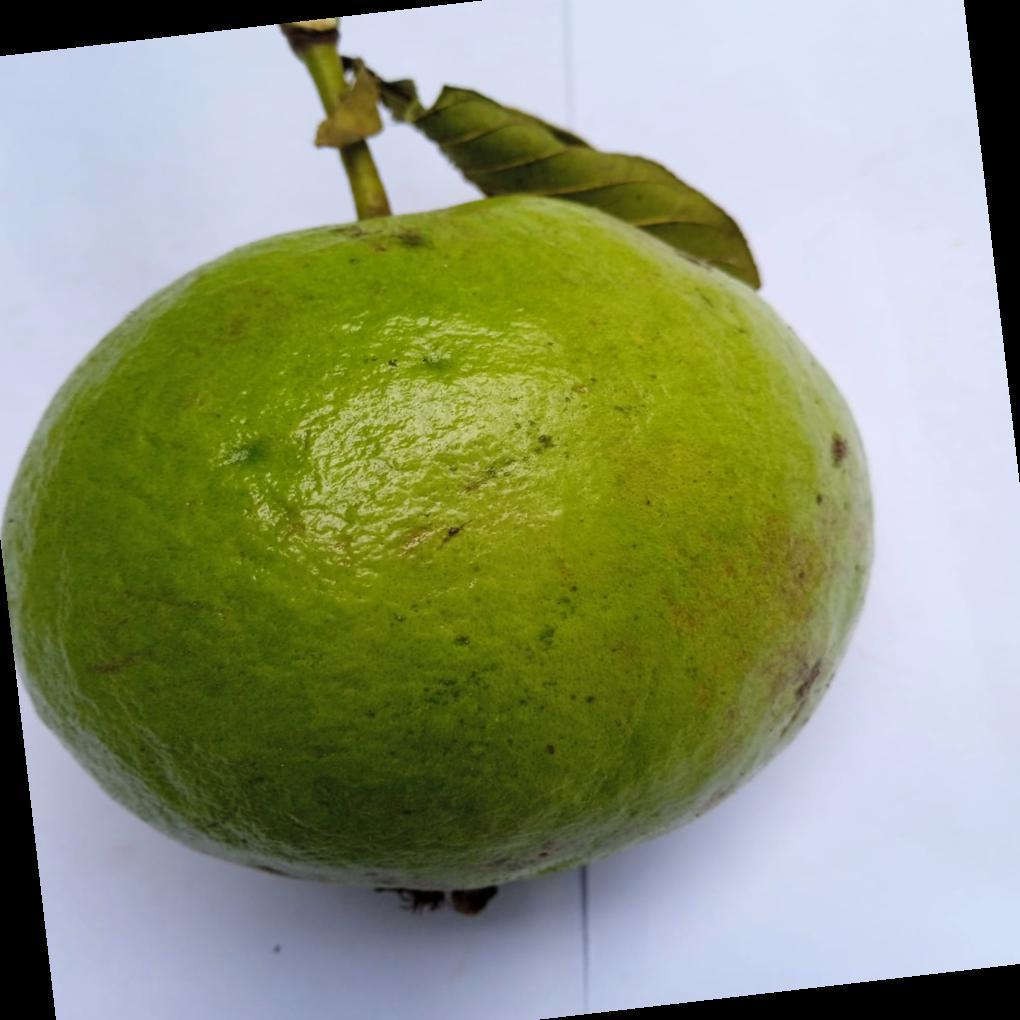FreshGuava: (2, 78, 876, 903)
